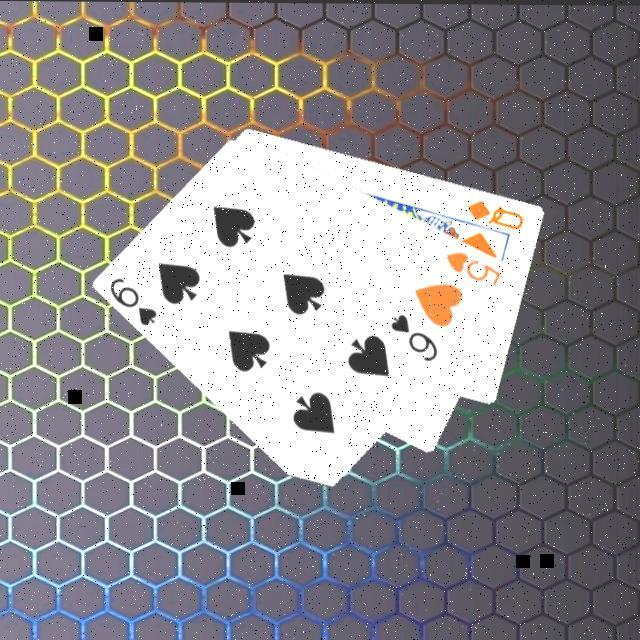5H: (442, 248, 504, 290)
6S: (106, 275, 160, 330), (387, 311, 441, 365)
QD: (463, 196, 527, 232)
